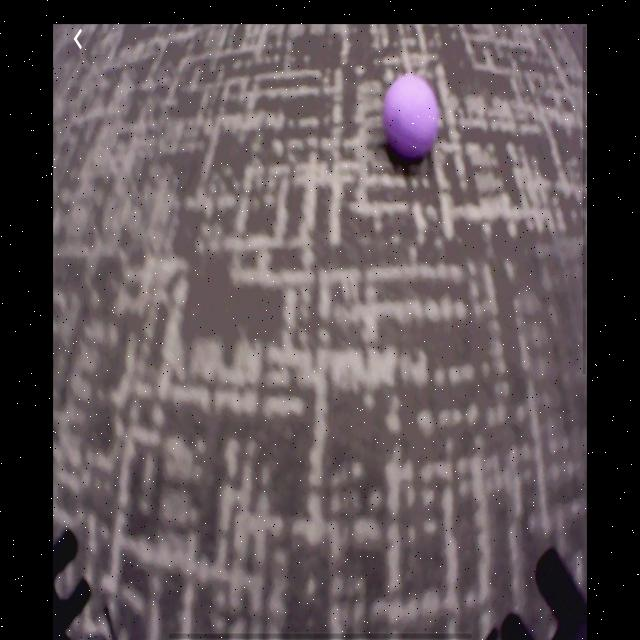ball: (382, 76, 441, 158)
